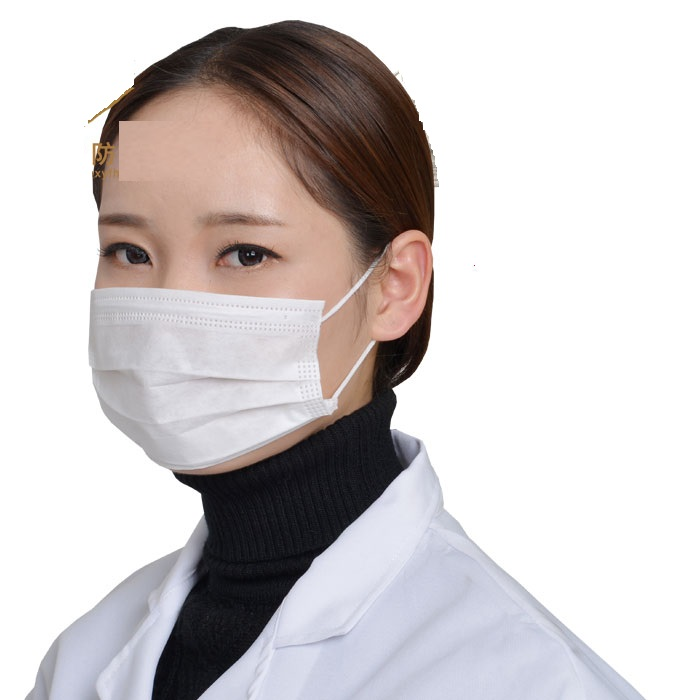face_mask: (86, 103, 350, 459)
